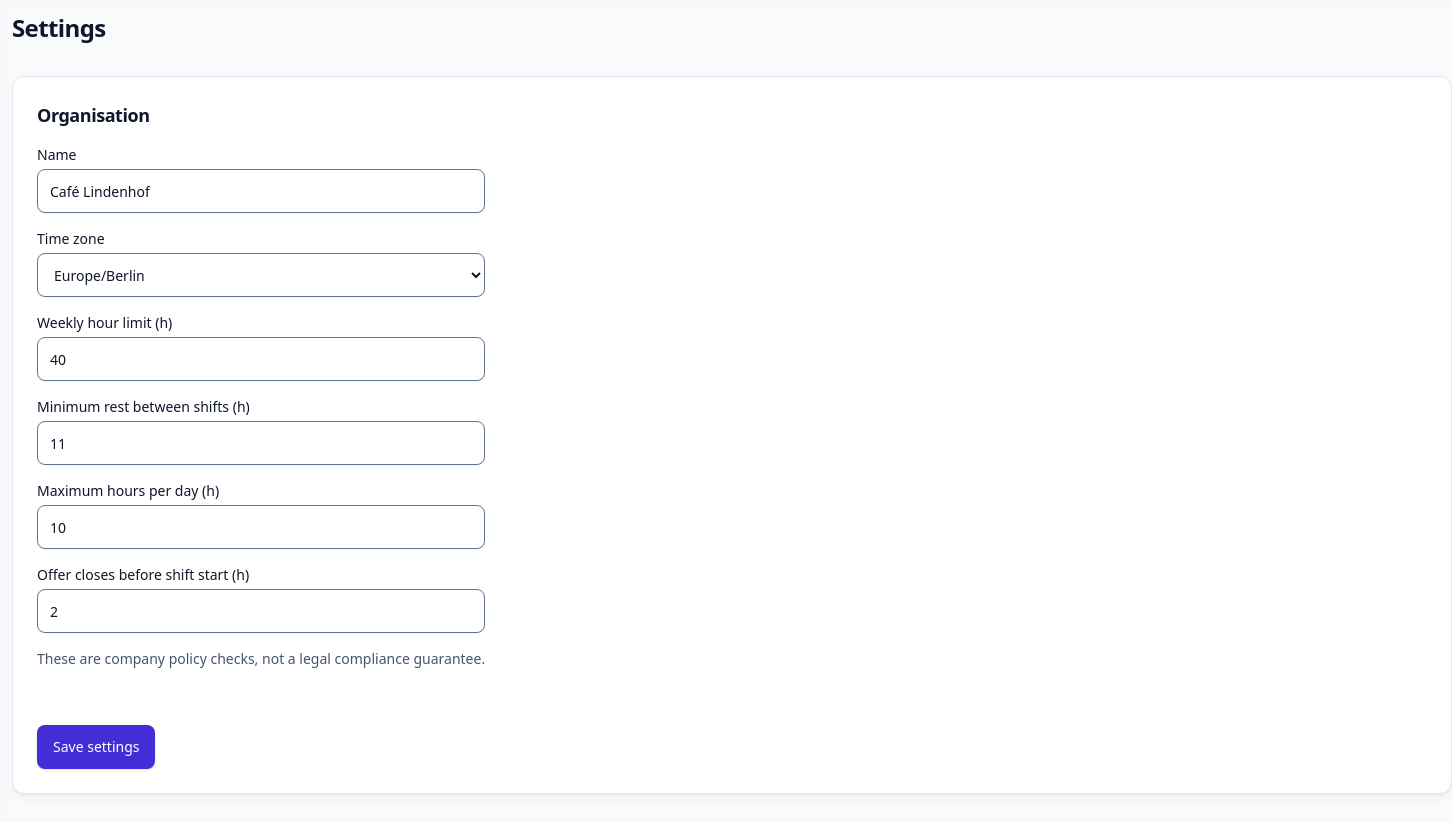
Test case: SettingsPage › sends nothing when nothing changed
Click the button "Save settings".
click(96, 747)  # box x1=37 y1=725 x2=156 y2=769
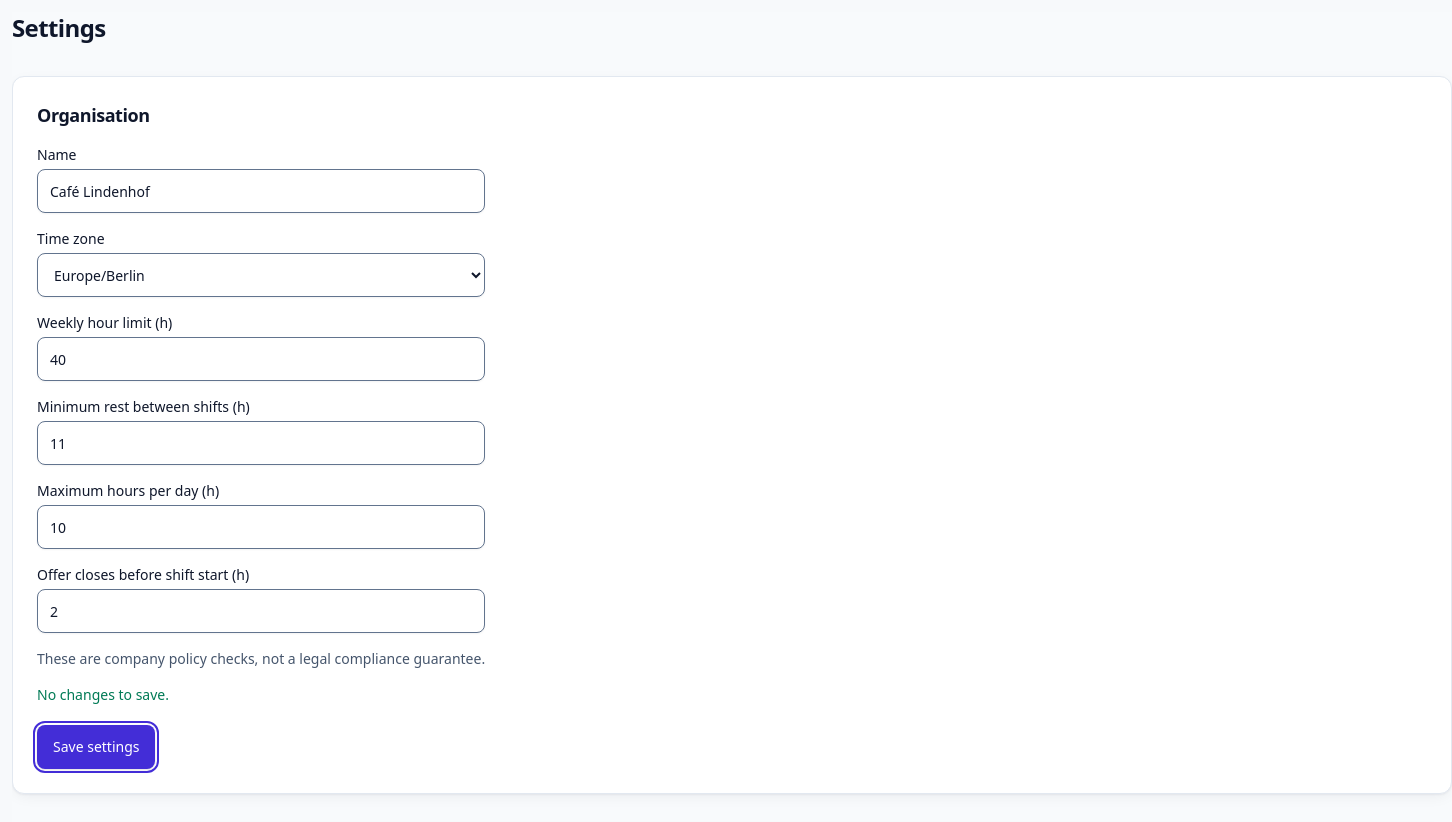
Now the text "No changes to save." is shown, box x1=37 y1=685 x2=169 y2=704
